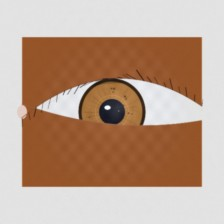hemorrhage_spot: (66, 90, 152, 160)
